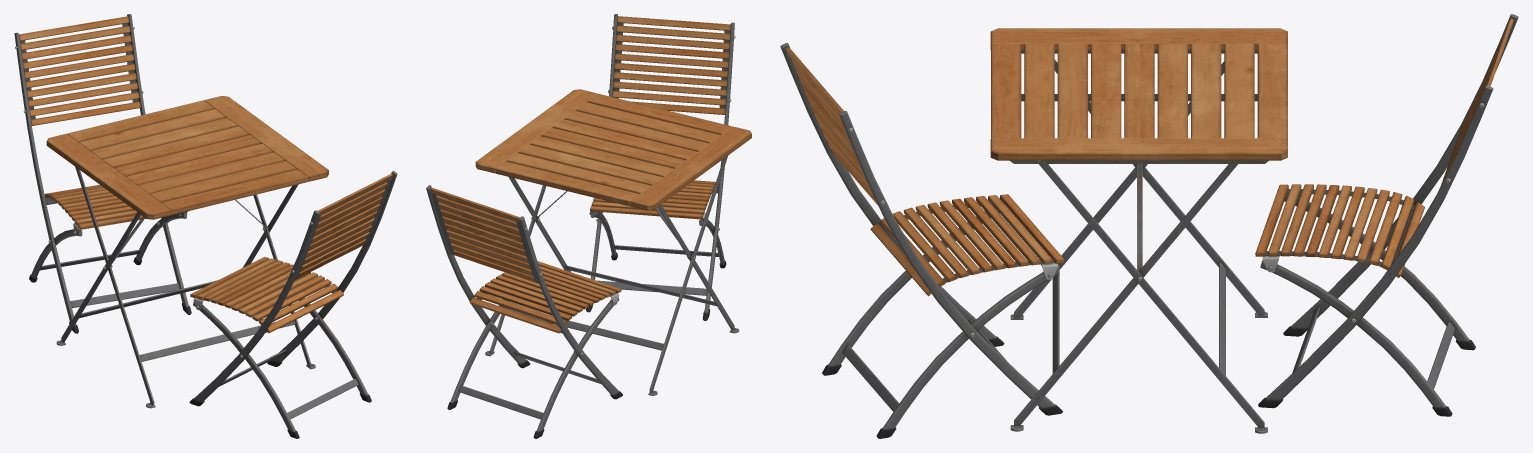
The model's file is outdoor_table_chair_set_01.glb.
3 views of the same model, side by side, from view 1: azimuth 30°, elevation 25°; view 2: azimuth 150°, elevation 25°; view 3: azimuth 270°, elevation 25° (orthographic). The views are drawn at different scales.
Visible parts, largest first — view 1: outdoor_table_chair_set_01_table, outdoor_table_chair_set_01_chair_02, outdoor_table_chair_set_01_chair_01; view 2: outdoor_table_chair_set_01_table, outdoor_table_chair_set_01_chair_02, outdoor_table_chair_set_01_chair_01; view 3: outdoor_table_chair_set_01_table, outdoor_table_chair_set_01_chair_01, outdoor_table_chair_set_01_chair_02.
Boxes of the visible parts, x1,y1,x2,y2 form: outdoor_table_chair_set_01_table: (46, 96, 328, 408); outdoor_table_chair_set_01_chair_02: (14, 14, 191, 333); outdoor_table_chair_set_01_chair_01: (189, 171, 397, 438); outdoor_table_chair_set_01_table: (475, 89, 751, 395); outdoor_table_chair_set_01_chair_02: (426, 185, 622, 438); outdoor_table_chair_set_01_chair_01: (586, 14, 735, 320); outdoor_table_chair_set_01_table: (990, 28, 1287, 433); outdoor_table_chair_set_01_chair_01: (780, 43, 1064, 438); outdoor_table_chair_set_01_chair_02: (1255, 14, 1518, 416).
Bounding box in the file's own units: 0.7417 × 0.8586 × 1.72.
2 materials, 2 textured.
